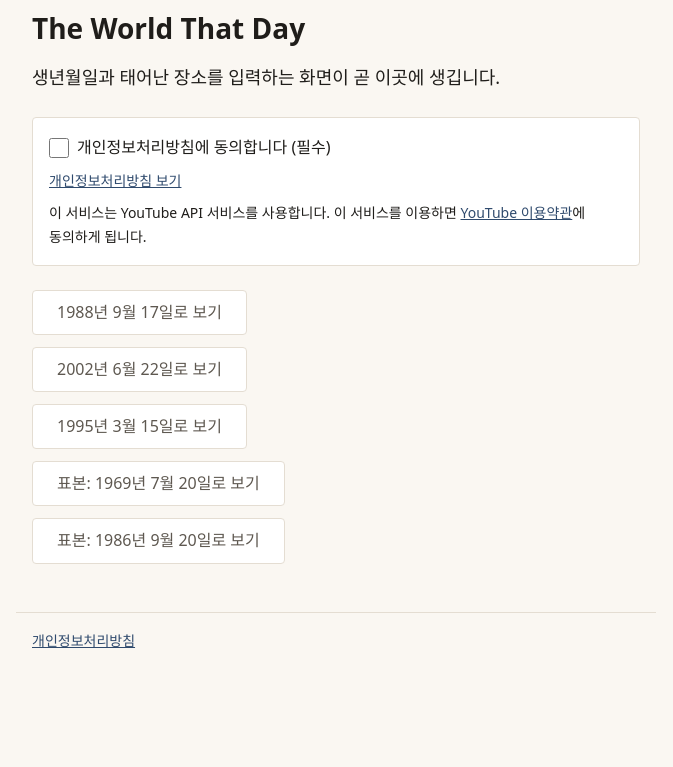
App › shows the 1988 events in the world section and placeholders elsewhere
Click the checkbox labelled "개인정보처리방침에 동의합니다 (필수)" at point(59, 148), box 49,138 -> 69,158
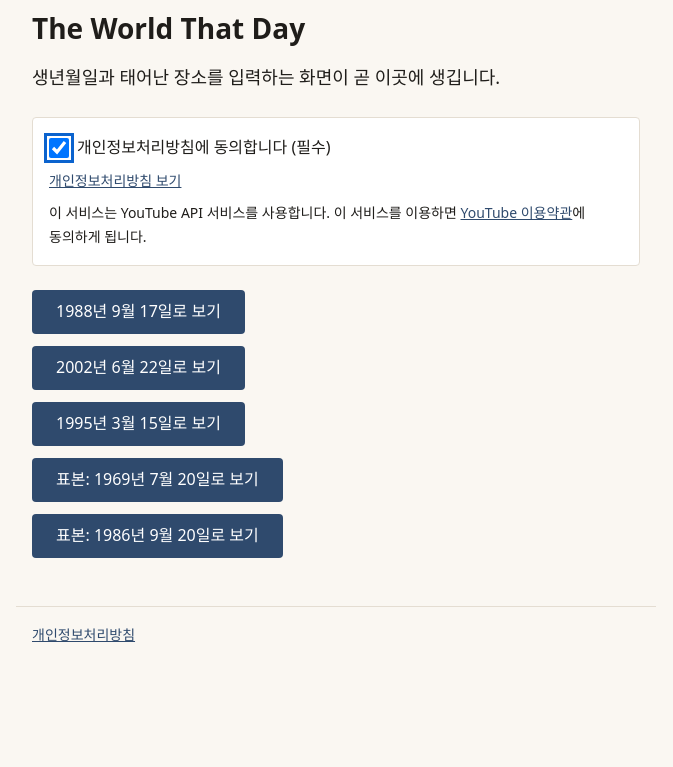
Click the button "1988년 9월 17일로 보기" at point(138, 312), box 32,290 -> 245,334
(page scrolled)
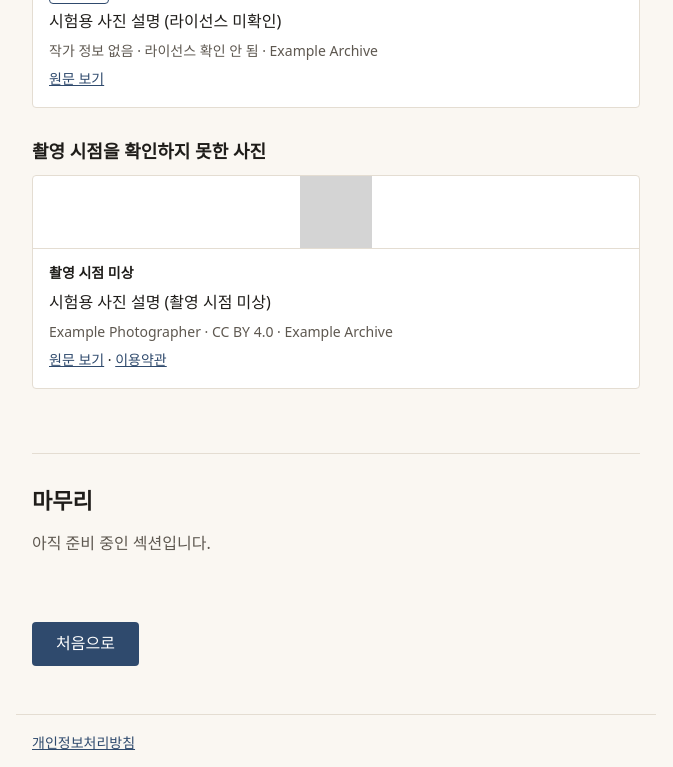
Now the element showing "마무리 아직 준비 중인 섹션입니다." is shown, box 32,453 -> 640,558
